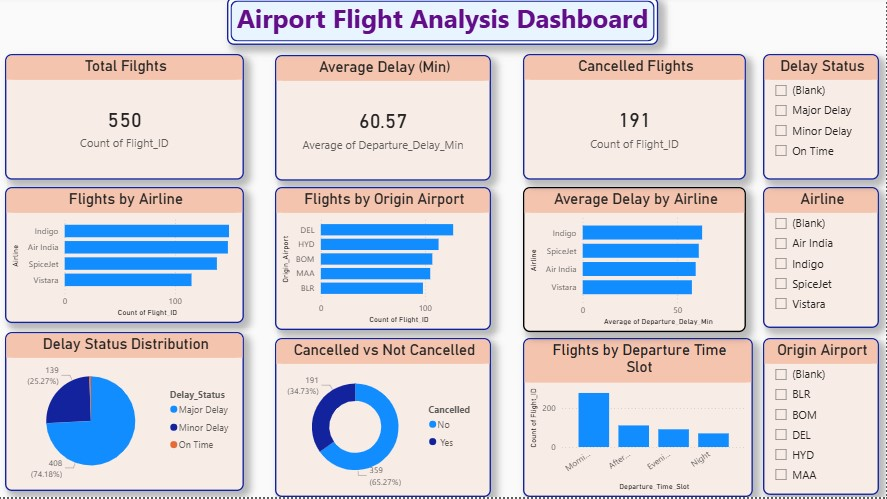

Layout of this report page (visuals, bound fields, positions):
{"tool":"powerbi","page":{"name":"Dashboard","canvas":[1280,720],"ordinal":0},"visuals":[{"type":"textbox","box":[329.7,0,620.6,69.1],"z":0},{"type":"card","title":"Total Filghts","fields":{"Values":["CountNonNull(Flight_Data.Flight_ID)"]},"box":[10,82.5,343.8,181.2],"z":1000},{"type":"card","title":"Average Delay (Min)","fields":{"Values":["Avg(Flight_Data.Departure_Delay_Min)"]},"box":[398.9,83.5,311,181.4],"z":2000},{"type":"clusteredBarChart","title":"Flights by Airline","fields":{"Category":["Flight_Data.Airline"],"Y":["CountNonNull(Flight_Data.Flight_ID)"]},"box":[10.1,273.6,344.2,195.8],"z":3000},{"type":"barChart","title":"Flights by Origin Airport","fields":{"Category":["Flight_Data.Origin_Airport"],"Y":["CountNonNull(Flight_Data.Flight_ID)"]},"box":[398.9,273.6,311,205.9],"z":4000},{"type":"pieChart","title":"Delay Status Distribution","fields":{"Category":["Flight_Data.Delay_Status"],"Y":["CountNonNull(Flight_Data.Flight_ID)"]},"box":[10.1,482.4,344.2,229],"z":5000},{"type":"donutChart","title":"Cancelled vs Not Cancelled","fields":{"Category":["Flight_Data.Cancelled"],"Y":["CountNonNull(Flight_Data.Flight_ID)"]},"box":[398.9,491,311,229],"z":6000},{"type":"clusteredColumnChart","title":"Flights by Departure Time Slot","fields":{"Category":["Flight_Data.Departure_Time_Slot"],"Y":["CountNonNull(Flight_Data.Flight_ID)"]},"box":[756,491,331.2,229],"z":7000},{"type":"clusteredBarChart","title":"Average Delay by Airline","fields":{"Category":["Flight_Data.Airline"],"Y":["Avg(Flight_Data.Departure_Delay_Min)"]},"box":[756,273.6,321.1,208.8],"z":8000},{"type":"slicer","title":"Airline","fields":{"Values":["Flight_Data.Airline"]},"box":[1101.6,273.6,167,203],"z":9000},{"type":"slicer","title":"Origin Airport","fields":{"Values":["Flight_Data.Origin_Airport"]},"box":[1101.6,491,167,226.1],"z":10000},{"type":"slicer","title":"Delay Status","fields":{"Values":["Flight_Data.Delay_Status"]},"box":[1101.6,82.1,167,181.4],"z":11000},{"type":"shape","box":[329.8,0,620.6,69.1],"z":11500},{"type":"card","title":"Cancelled Flights","fields":{"Values":["CountNonNull(Flight_Data.Flight_ID)"]},"box":[756,82.1,321.1,181.4],"z":12000}]}

Visuals, with their boxes in screenshot pixels (x1, y1, x2, y2), scaled from the page's 1280x720 canvas onto the 887x499 screenshot:
textbox: box(228, 0, 659, 48)
"Total Filghts" card: box(7, 57, 245, 183)
"Average Delay (Min)" card: box(276, 58, 492, 184)
"Flights by Airline" clusteredBarChart: box(7, 190, 246, 325)
"Flights by Origin Airport" barChart: box(276, 190, 492, 332)
"Delay Status Distribution" pieChart: box(7, 334, 246, 493)
"Cancelled vs Not Cancelled" donutChart: box(276, 340, 492, 498)
"Flights by Departure Time Slot" clusteredColumnChart: box(524, 340, 753, 498)
"Average Delay by Airline" clusteredBarChart: box(524, 190, 746, 334)
"Airline" slicer: box(763, 190, 879, 330)
"Origin Airport" slicer: box(763, 340, 879, 497)
"Delay Status" slicer: box(763, 57, 879, 183)
shape: box(229, 0, 659, 48)
"Cancelled Flights" card: box(524, 57, 746, 183)
